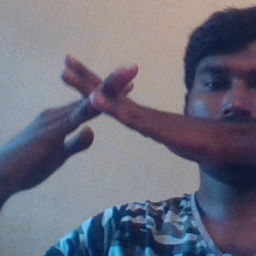W: (28, 41, 167, 171)
